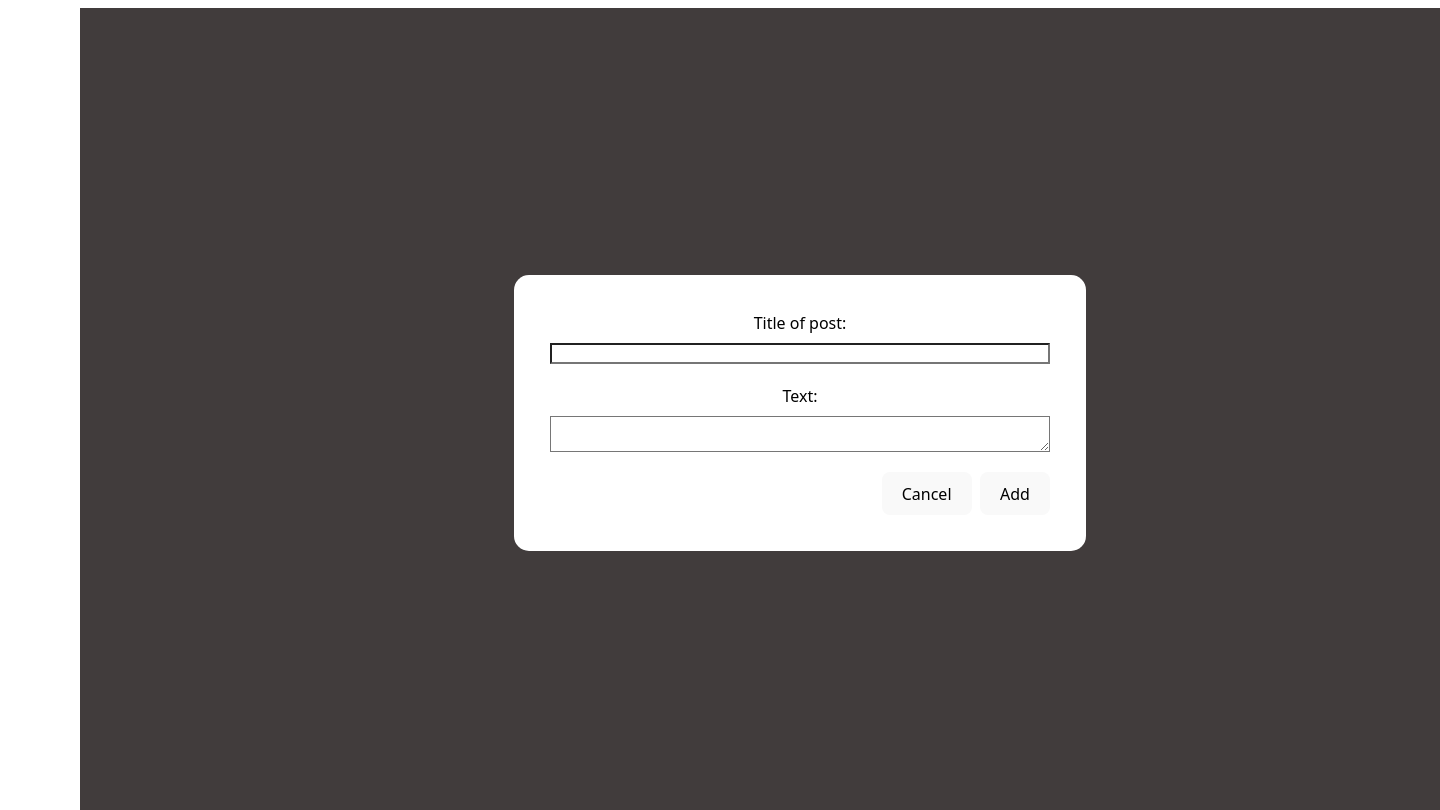
Scenario: AddPostForm › shows validation errors if fields are empty and Add is clicked
The image size is (1440, 810).
What coordinates should you click on to do the following:
click the button "Add"
I would click on:
 (1015, 494)
Its box is top-left (980, 472), bottom-right (1050, 515).
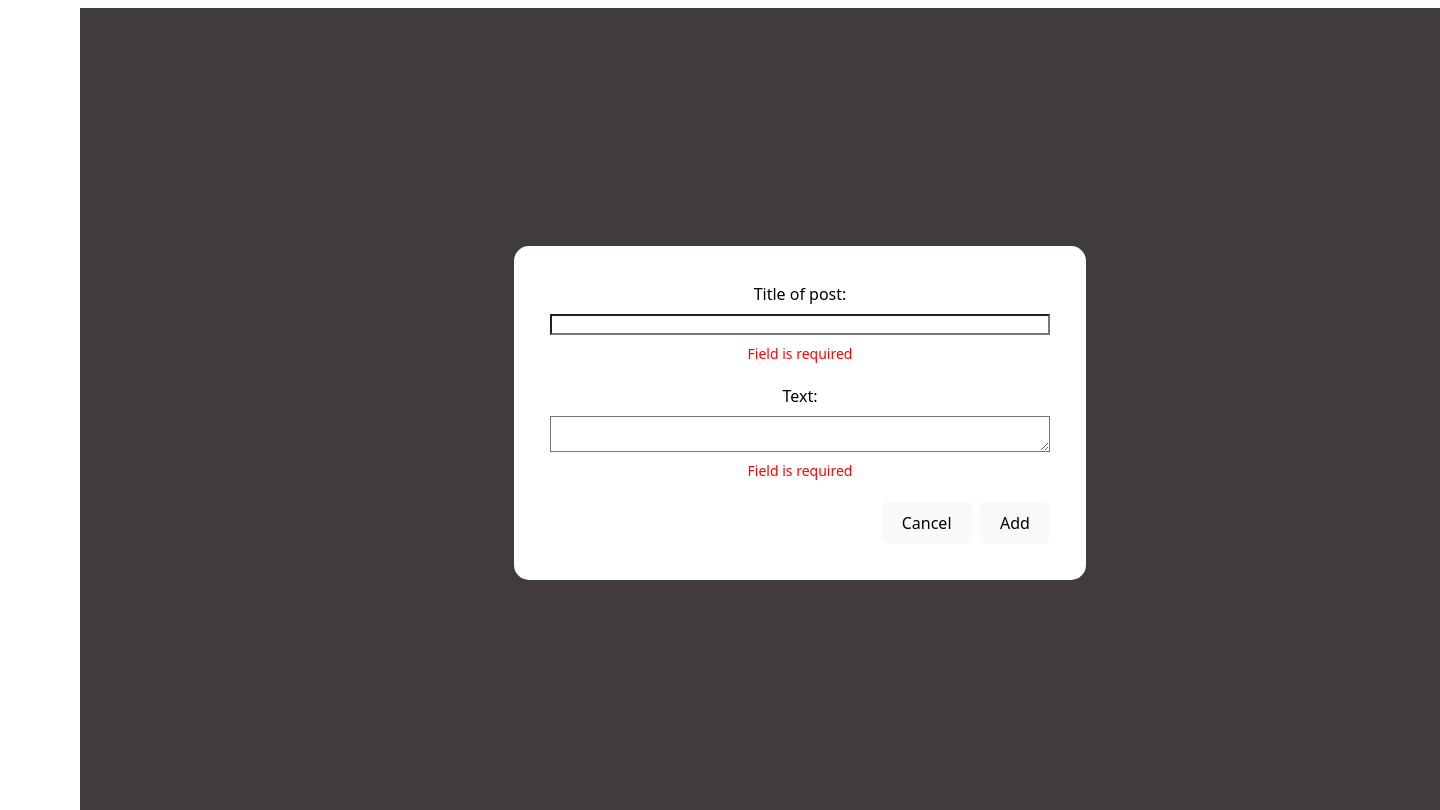
Now the text "Field is required" is shown 2 times, box top-left (748, 344), bottom-right (852, 363); top-left (748, 461), bottom-right (852, 480)
